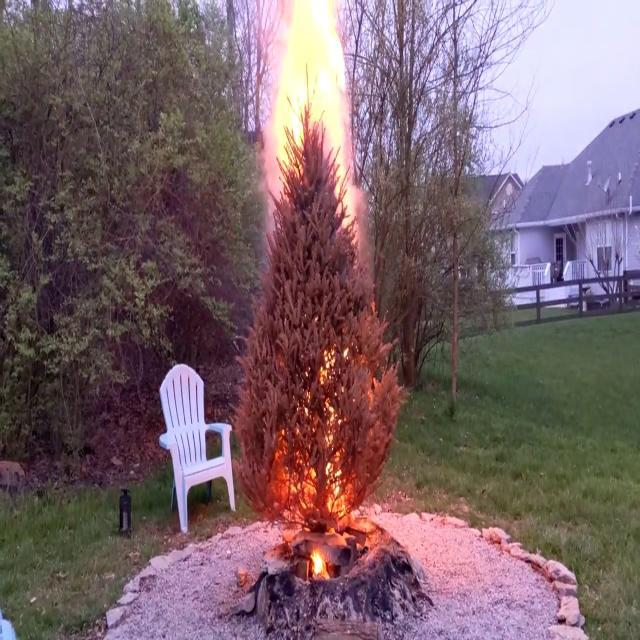Fire: (265, 2, 353, 224), (278, 348, 360, 574)
